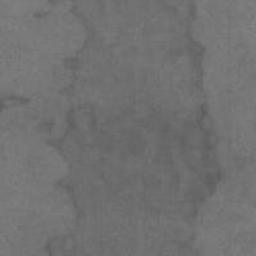Water spot: (29, 0, 221, 256), (0, 91, 31, 111), (36, 119, 54, 134)
